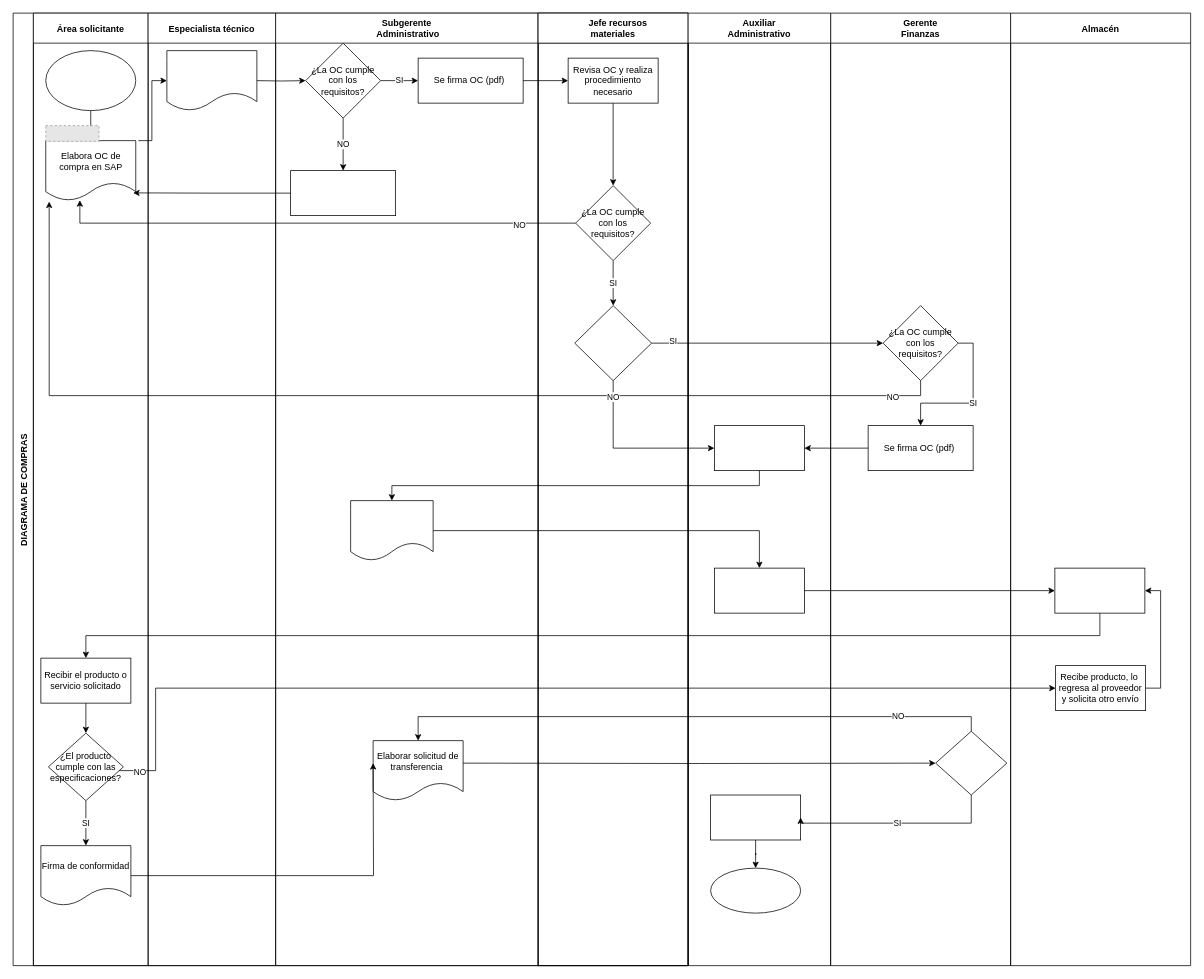
This 1204x979 diagram has some shape labels left out. Grey dashed boxes stand in for pictures. Here are the shapes that lost their labels. From the top down, the centre of each, then its label:
the point at 90,80: Inicio
the point at 211,80: Evalúa, señala especificaciones técnicas (PDF)
the point at 343,193: Se hacen observaciones y se regresa al área solicitante
the point at 613,343: ¿Compra > 50K?
the point at 759,448: Fincar el pedido al proveedor
the point at 391,530: Elabora contrato y da seguimiento
the point at 759,590: Entrega contrato al proveedor para su firma
the point at 1099,590: Recibe producto y manda al área solicitante
the point at 971,762: ¿Transacción autorizada?
the point at 755,817: Se hace transferencia al proveedor
the point at 755,890: Fin
